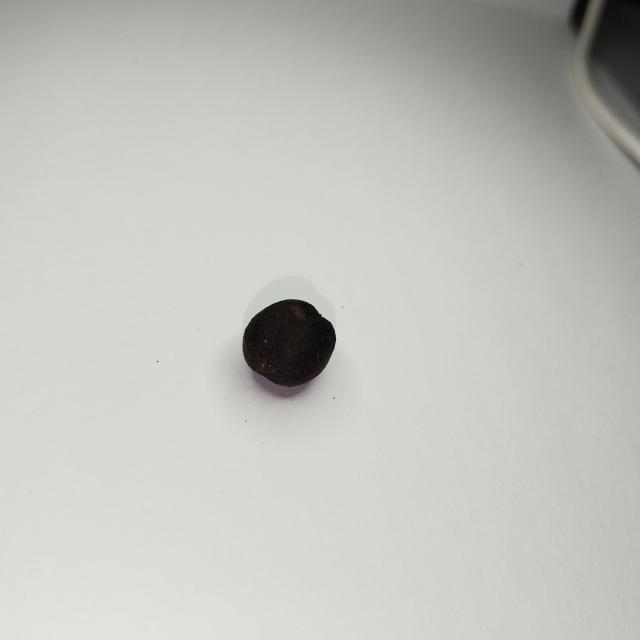Danado: (243, 299, 335, 387)
